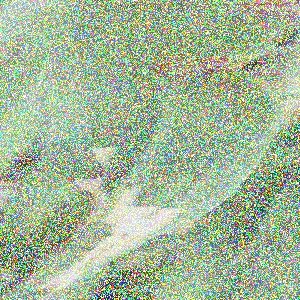Brown_Spot: (151, 47, 263, 84)
